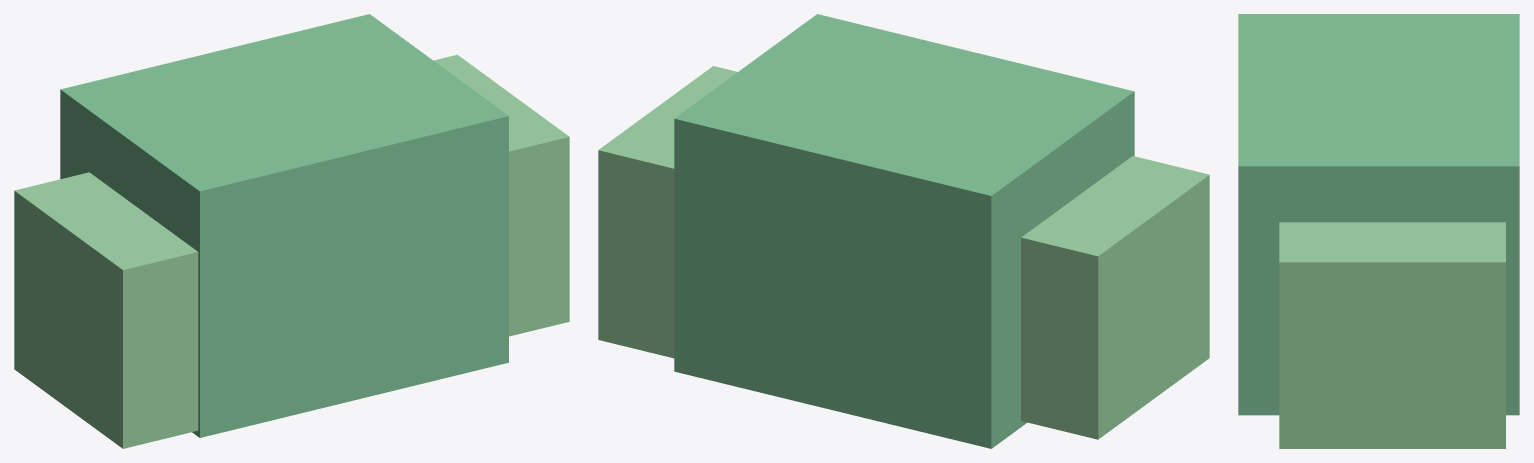
File: bush-round.glb
The picture shows the model from 3 angles, left to right: view 1: azimuth 30°, elevation 25°; view 2: azimuth 150°, elevation 25°; view 3: azimuth 270°, elevation 25°; orthographic projection. The views are drawn at different scales.
Parts seen in each view (by area): view 1: PLACEHOLDER_bush-center, PLACEHOLDER_bush-left, PLACEHOLDER_bush-right; view 2: PLACEHOLDER_bush-center, PLACEHOLDER_bush-left, PLACEHOLDER_bush-right; view 3: PLACEHOLDER_bush-center, PLACEHOLDER_bush-right.
Boxes of the visible parts, x1=… form: PLACEHOLDER_bush-center: x1=60, y1=14, x2=508, y2=437; PLACEHOLDER_bush-left: x1=14, y1=172, x2=198, y2=448; PLACEHOLDER_bush-right: x1=433, y1=54, x2=569, y2=336; PLACEHOLDER_bush-center: x1=674, y1=14, x2=1134, y2=448; PLACEHOLDER_bush-left: x1=1021, y1=156, x2=1209, y2=439; PLACEHOLDER_bush-right: x1=598, y1=66, x2=737, y2=358; PLACEHOLDER_bush-center: x1=1238, y1=14, x2=1519, y2=415; PLACEHOLDER_bush-right: x1=1279, y1=222, x2=1505, y2=448.
Size of the model in its own units: 1.58 by 0.8 by 0.82.
